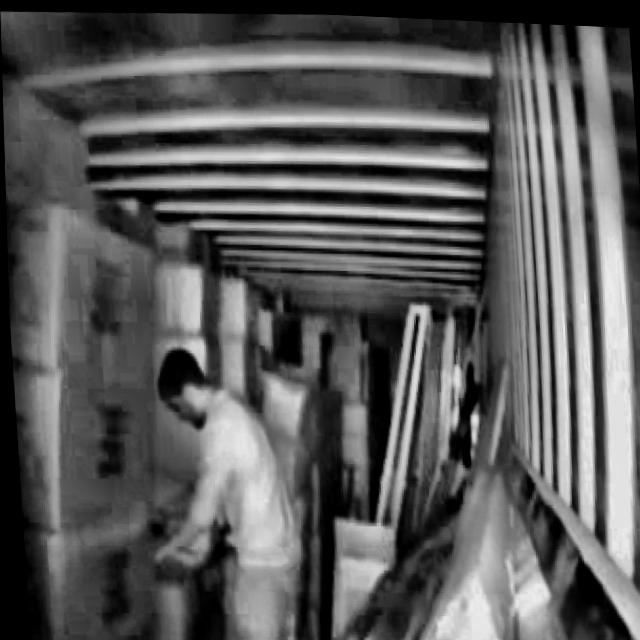burglary: (126, 334, 314, 640)
